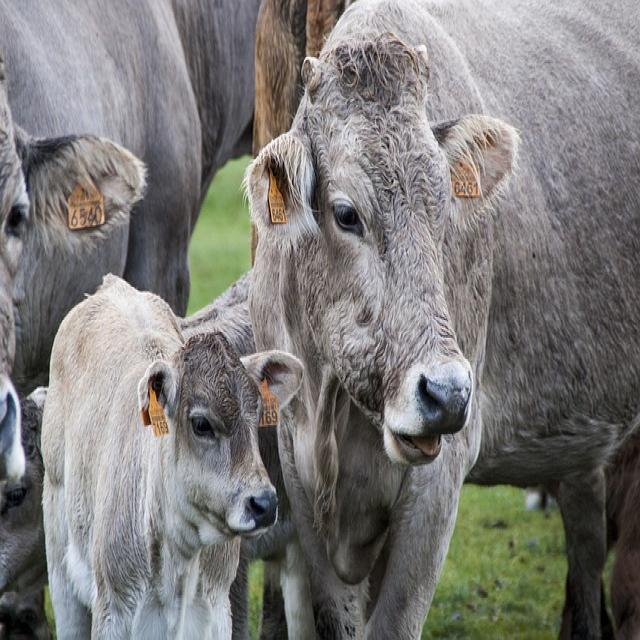Herbivorous: (242, 0, 640, 640), (40, 276, 283, 640), (0, 80, 152, 640)
